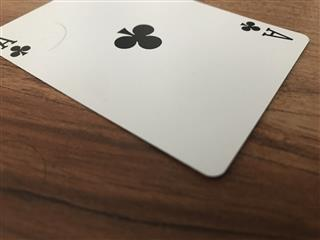AceOfClubs: (1, 1, 309, 177)
